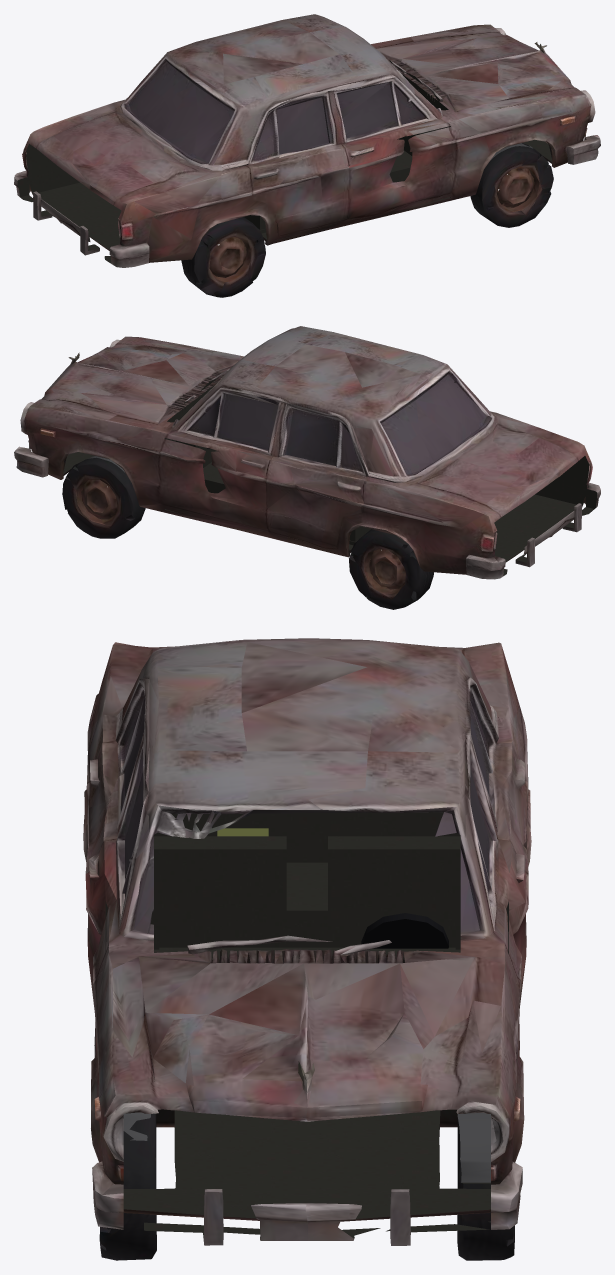
The model's file is car_sedan.glb.
3 renders of one model, top to bottom at view 1: azimuth 30°, elevation 25°; view 2: azimuth 150°, elevation 25°; view 3: azimuth 270°, elevation 25°, orthographic. The views are drawn at different scales.
Visible parts, largest first — view 1: body, door_front_2, hood, door_front_1, trunk, wheel_1, wheel_3; view 2: body, door_back_2, hood, door_back_1, trunk, wheel_2, wheel_4; view 3: body, hood, door_back_2, door_front_2, door_back_1, door_front_1, wheel_3, wheel_4, trunk.
Boxes of the visible parts, x1,y1,x2,y2 form: body: [14, 14, 600, 267]; door_front_2: [336, 78, 458, 226]; hood: [371, 24, 592, 132]; door_front_1: [240, 96, 349, 245]; trunk: [27, 105, 209, 212]; wheel_1: [181, 217, 267, 297]; wheel_3: [470, 143, 553, 227]; body: [14, 326, 600, 579]; door_back_2: [157, 390, 279, 538]; hood: [23, 336, 243, 444]; door_back_1: [265, 408, 374, 556]; trunk: [406, 417, 587, 524]; wheel_2: [346, 529, 433, 609]; wheel_4: [62, 456, 143, 538]; body: [83, 638, 530, 1245]; hood: [98, 958, 515, 1121]; door_back_2: [465, 751, 528, 1049]; door_front_2: [85, 751, 148, 1048]; door_back_1: [469, 662, 531, 940]; door_front_1: [83, 662, 146, 940]; wheel_3: [99, 1112, 156, 1260]; wheel_4: [457, 1113, 514, 1260]; trunk: [93, 642, 520, 730].
Bounding box in the file's own units: 4.5 × 1.56 × 1.74.
7 materials, 4 textured.
